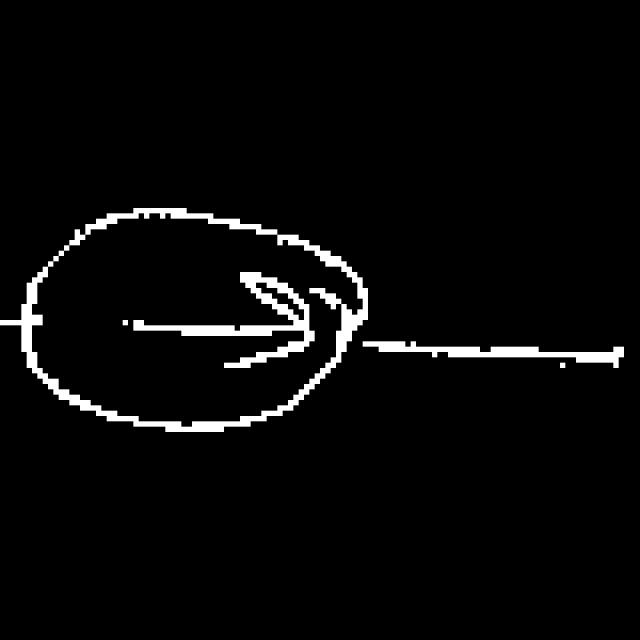current_source: (9, 202, 384, 436)
